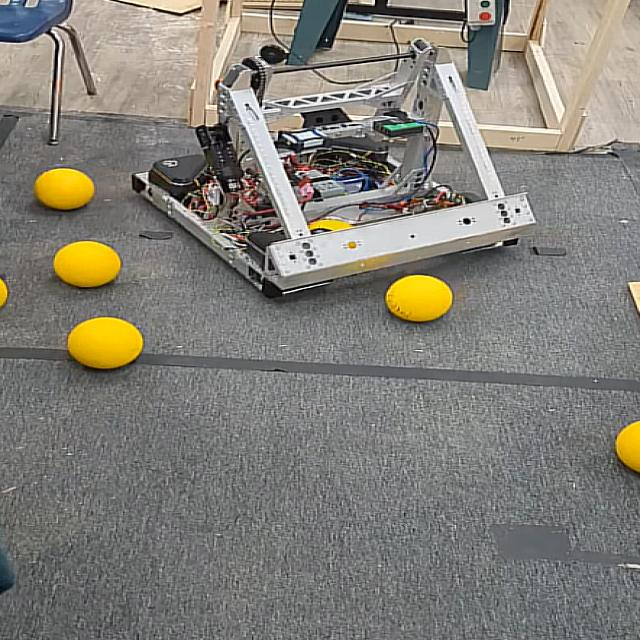Fuel: (67, 316, 142, 368), (52, 240, 121, 288), (384, 274, 452, 322), (385, 274, 452, 322), (54, 241, 120, 287), (35, 168, 94, 209), (616, 421, 638, 473), (0, 275, 10, 309), (0, 278, 7, 308)
